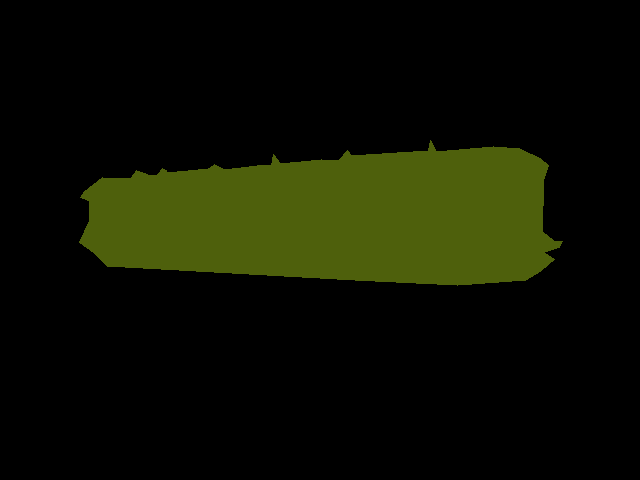Train: (79, 140, 563, 286)
